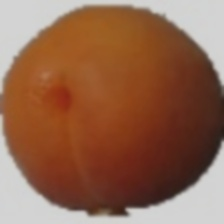apricot: (16, 31, 196, 195)
